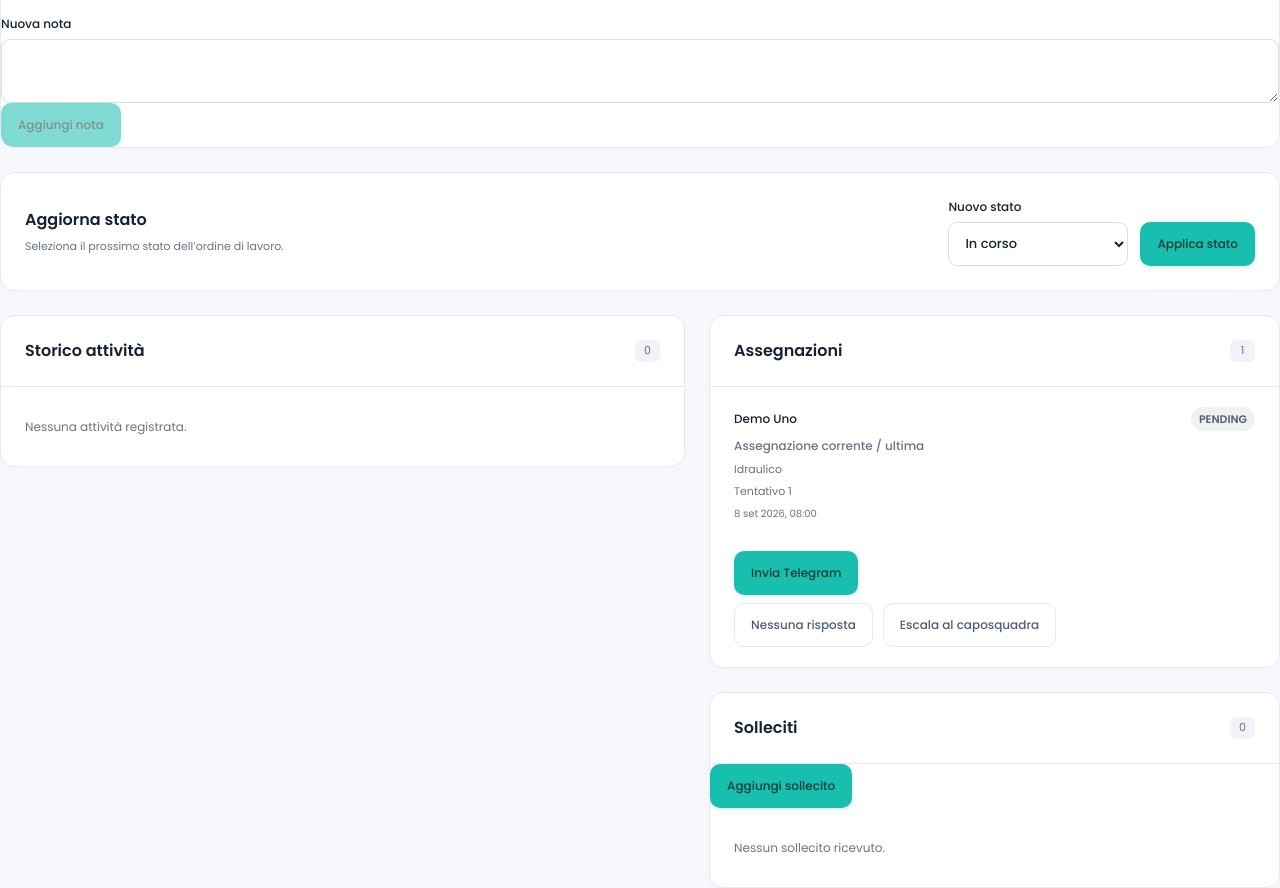
Test: advances pending via escalation and displays its successor
(page scrolled)
Expected: the text "Demo Uno" is shown, [734,409,797,428]
Click the button "Escala al caposquadra". click: coordinates (970, 625)
box: [883,603,1056,647]
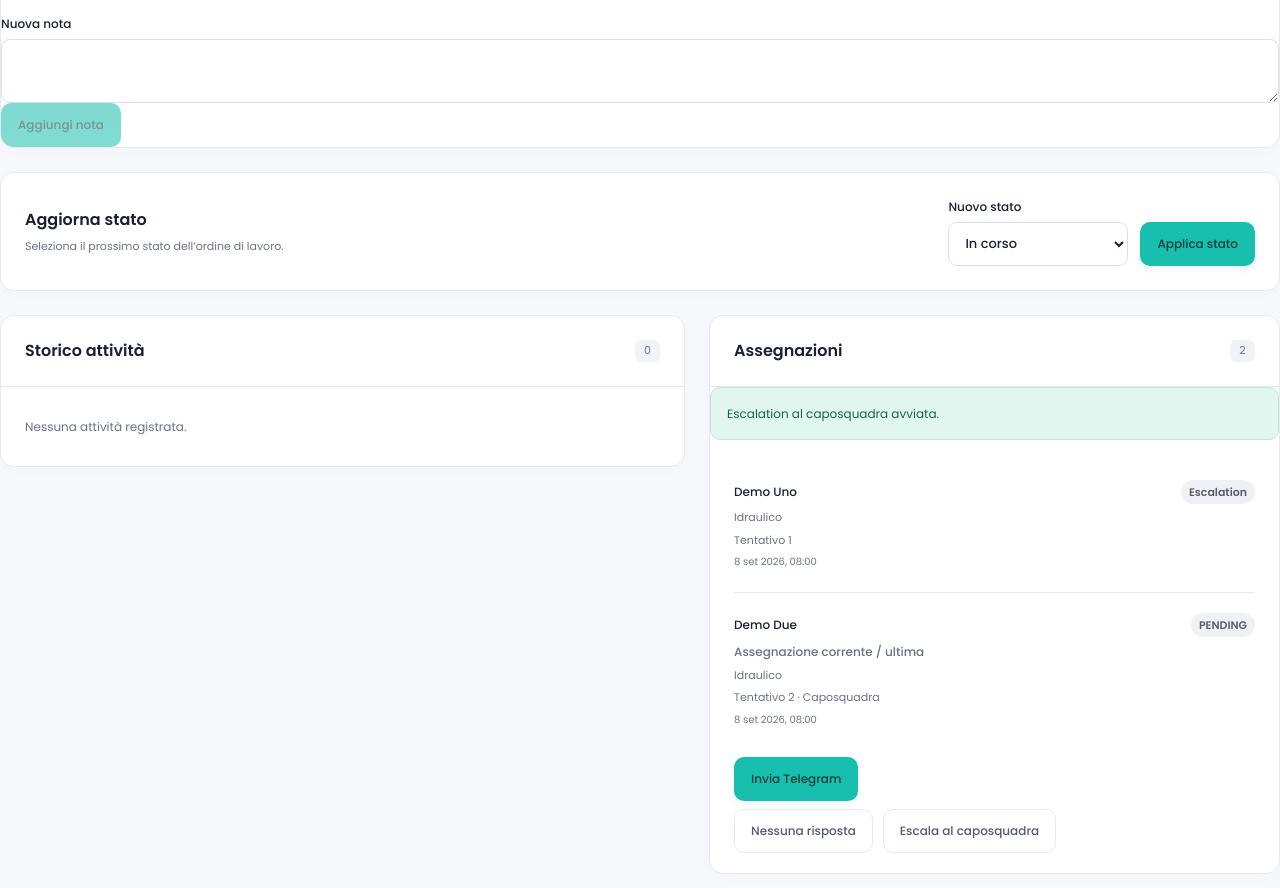
Expected: the number of buttons "Invia Telegram" is 1, [734,758,858,802]
Result: the text "Demo Due" is shown at [734,615,797,635]
